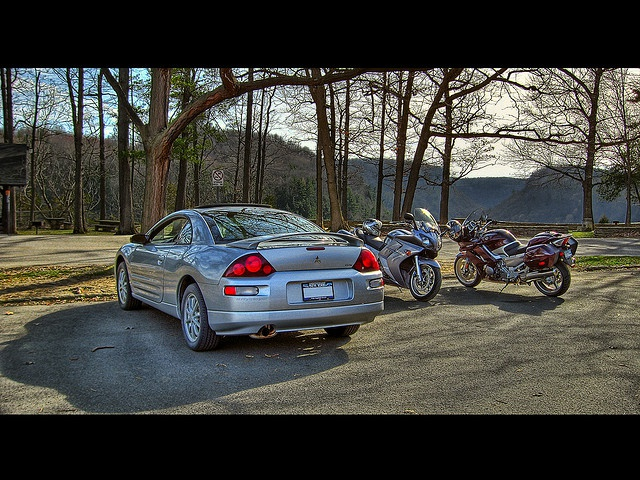non-vehicle: (445, 209, 578, 296), (334, 207, 450, 302)
